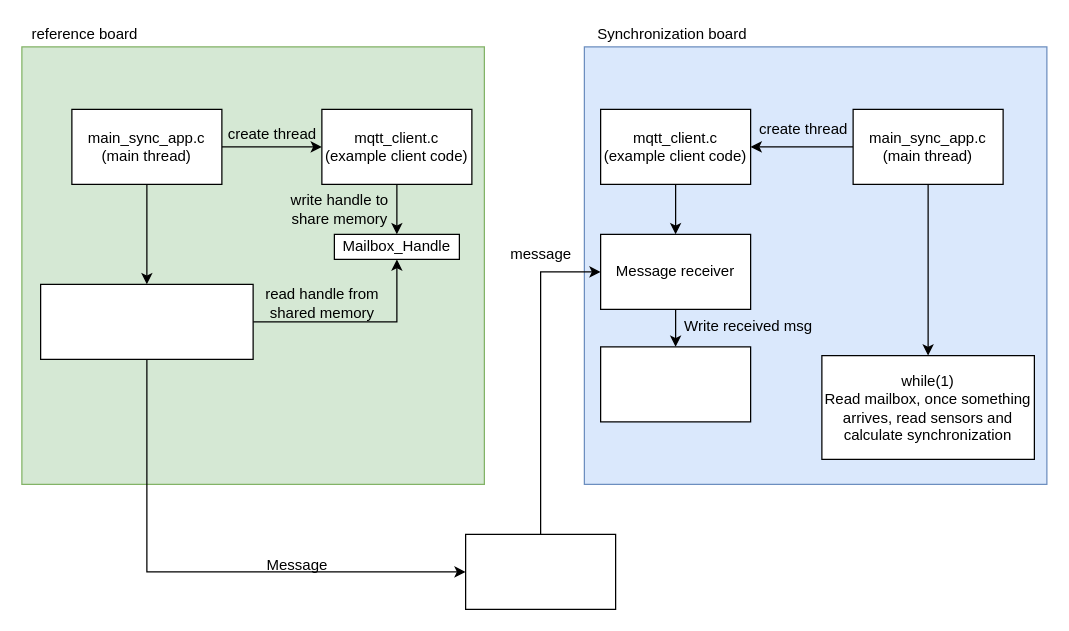
Some shapes in this 1069 by 631 pixel diagram are drawn without their labels. Each missing label, with the centre of its shape:
"Broker" belongs at (540,571).
"mailbox" belongs at (675,384).
"while(1) Read sensor measurements and publish them to broker" belongs at (146,321).
